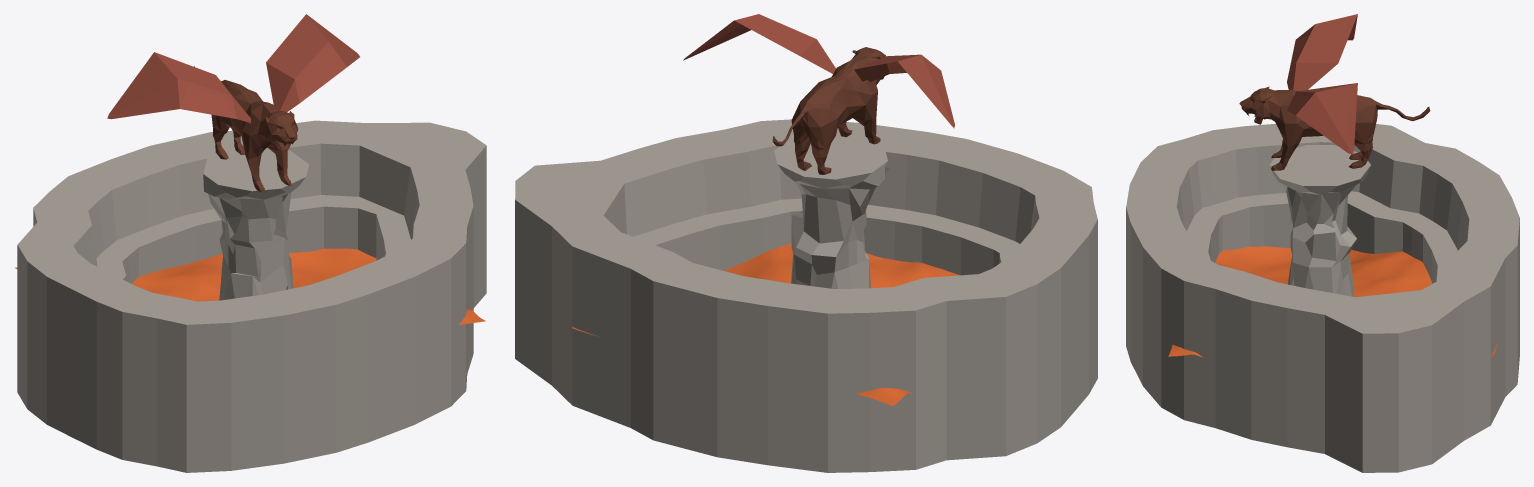
The model's file is Gargoyle.fbx.
3 renders of one model, left to right at view 1: azimuth 30°, elevation 25°; view 2: azimuth 150°, elevation 25°; view 3: azimuth 270°, elevation 25°, orthographic. The views are drawn at different scales.
Parts seen in each view (by area): view 1: Cylinder, Icosphere, Cylinder.001, Grid, Plane; view 2: Cylinder, Icosphere, Plane, Cylinder.001, Grid; view 3: Cylinder, Icosphere, Cylinder.001, Grid, Plane.
Boxes of the visible parts, x1,y1,x2,y2 form: Cylinder: [17, 120, 486, 472]; Icosphere: [203, 147, 308, 300]; Cylinder.001: [107, 14, 359, 123]; Grid: [14, 248, 485, 324]; Plane: [194, 66, 298, 192]; Cylinder: [515, 119, 1097, 472]; Icosphere: [774, 132, 888, 288]; Plane: [772, 47, 885, 174]; Cylinder.001: [683, 14, 954, 128]; Grid: [572, 243, 959, 406]; Cylinder: [1126, 123, 1519, 472]; Icosphere: [1269, 145, 1370, 296]; Cylinder.001: [1287, 14, 1357, 154]; Grid: [1168, 246, 1497, 357]; Plane: [1239, 86, 1430, 170].
Bounding box in the file's own units: 500 × 335 × 391.
